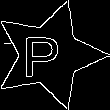P_N: (30, 30, 68, 80)
